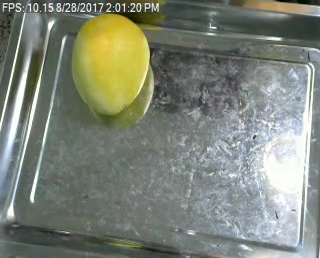Mango: (70, 12, 151, 114)
